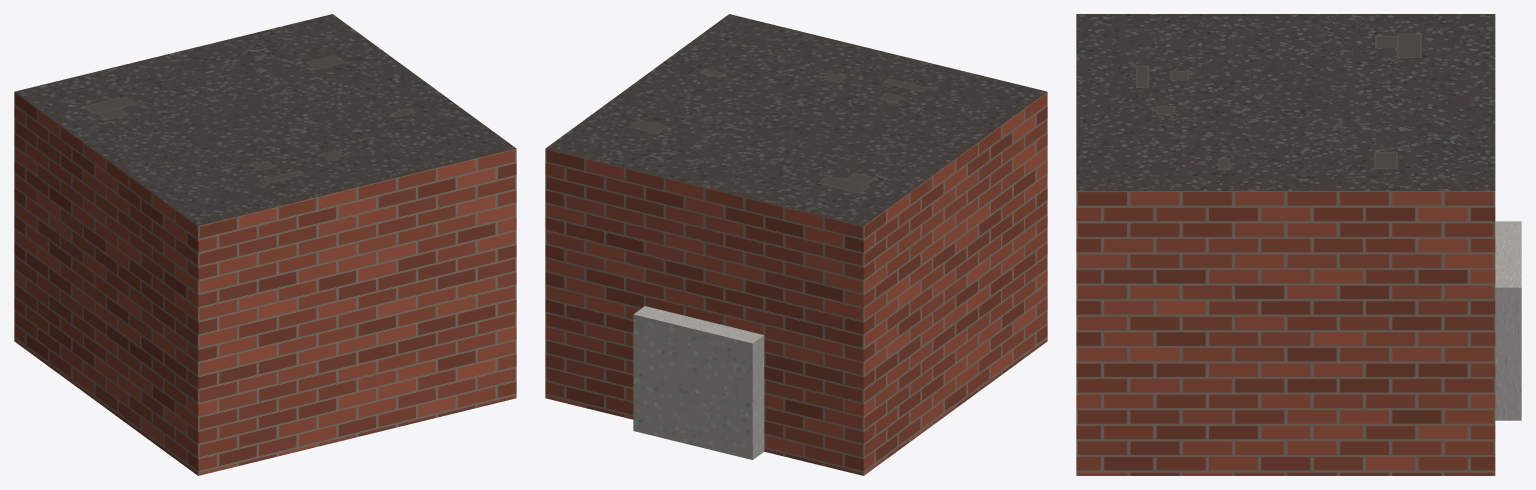
The model's file is building_small.obj.
3 views of the same model, side by side, from view 1: azimuth 30°, elevation 25°; view 2: azimuth 150°, elevation 25°; view 3: azimuth 270°, elevation 25° (orthographic). The views are drawn at different scales.
Size of the model in its own units: 8 by 6 by 8.5.
Materials: 3 (3 with a texture image).
